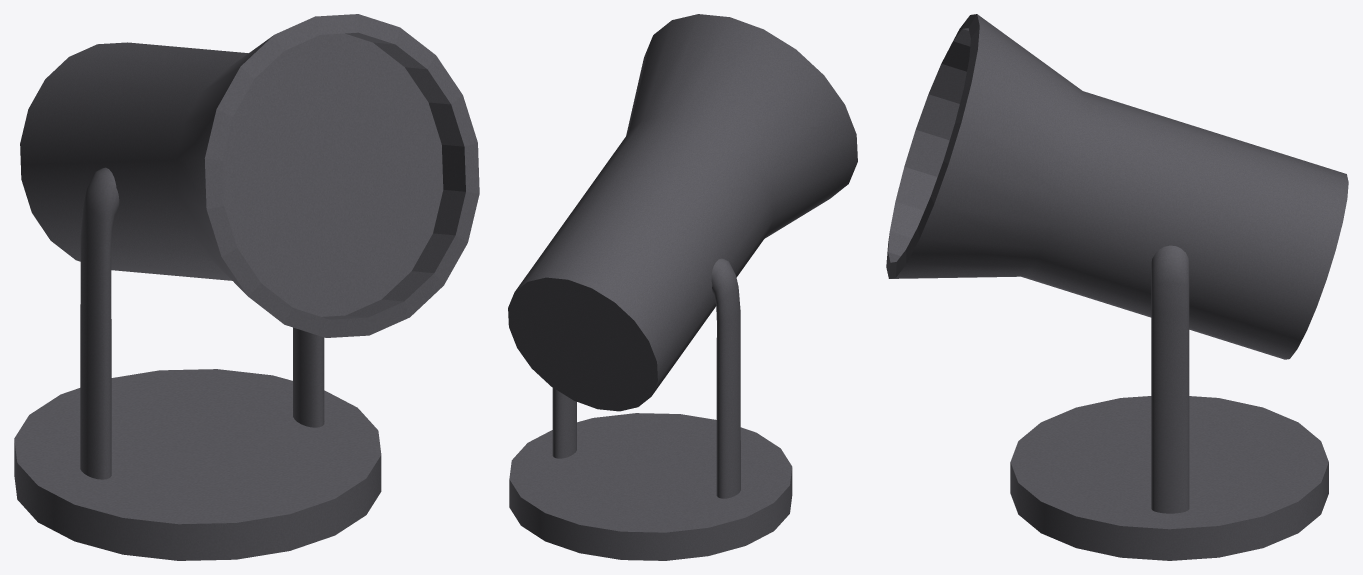
The model's file is spotlight.fbx.
3 renders of one model, left to right at view 1: azimuth 30°, elevation 25°; view 2: azimuth 150°, elevation 25°; view 3: azimuth 270°, elevation 25°, orthographic. The views are drawn at different scales.
Parts seen in each view (by area): view 1: pCylinder6; view 2: pCylinder6; view 3: pCylinder6.
Boxes of the visible parts, box(x1,y1,x2,y2) form: pCylinder6: box(14, 14, 479, 560); pCylinder6: box(508, 14, 857, 560); pCylinder6: box(886, 14, 1348, 560).
Size of the model in its own units: 7.8 by 12.73 by 11.33.
Materials: 1 (1 with a texture image).
